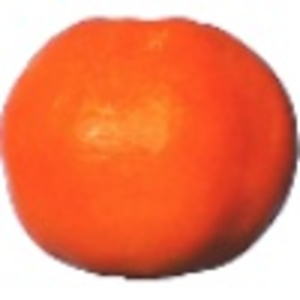tangerina: (1, 15, 300, 283)
